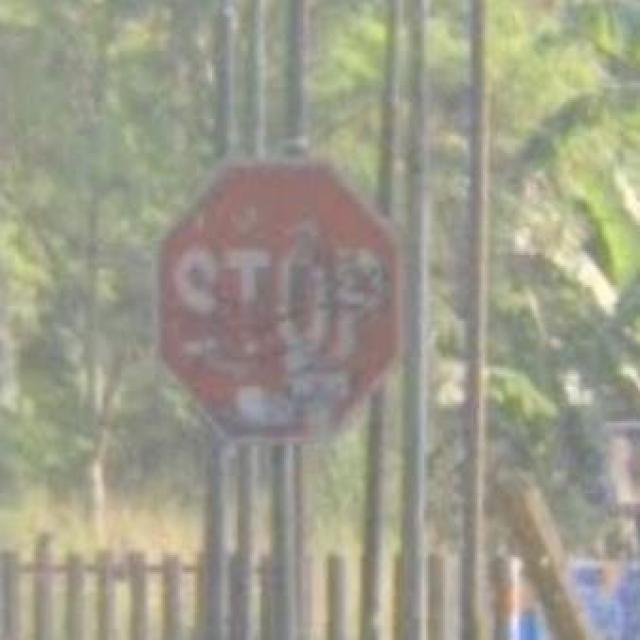traffic sign: (165, 157, 400, 440)
